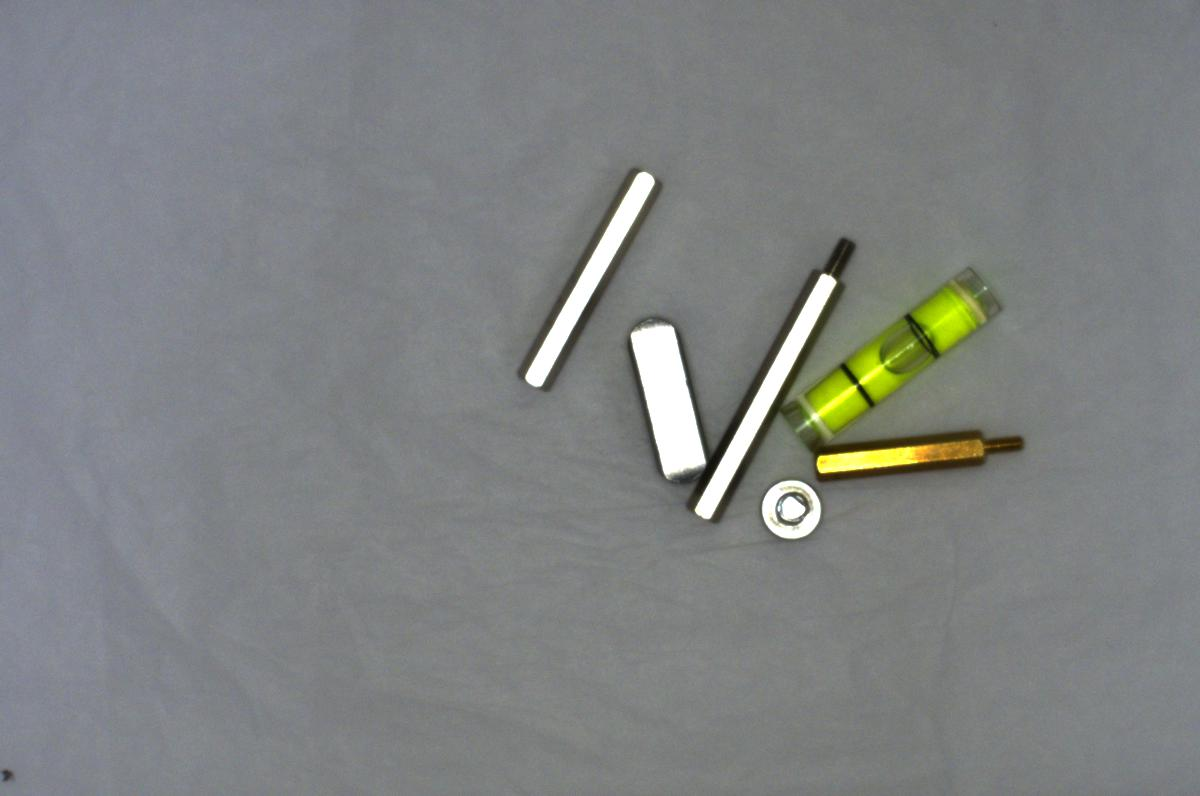Double hexagonal column: (515, 164, 660, 395)
Hexagon pillar: (817, 432, 1028, 474)
Hexagonal steel column: (683, 227, 857, 528)
Horizontal bubble: (771, 250, 1008, 451)
Keybar: (620, 310, 711, 487)
Round head screw: (755, 478, 823, 540)
